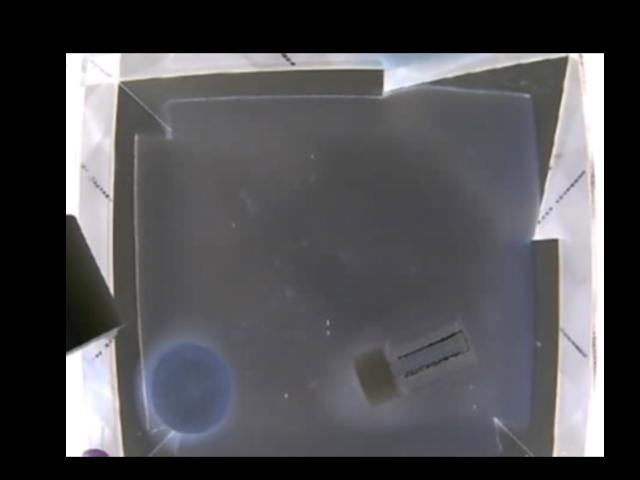Bottle: (355, 317, 474, 402)
Mooli: (145, 344, 235, 436)
